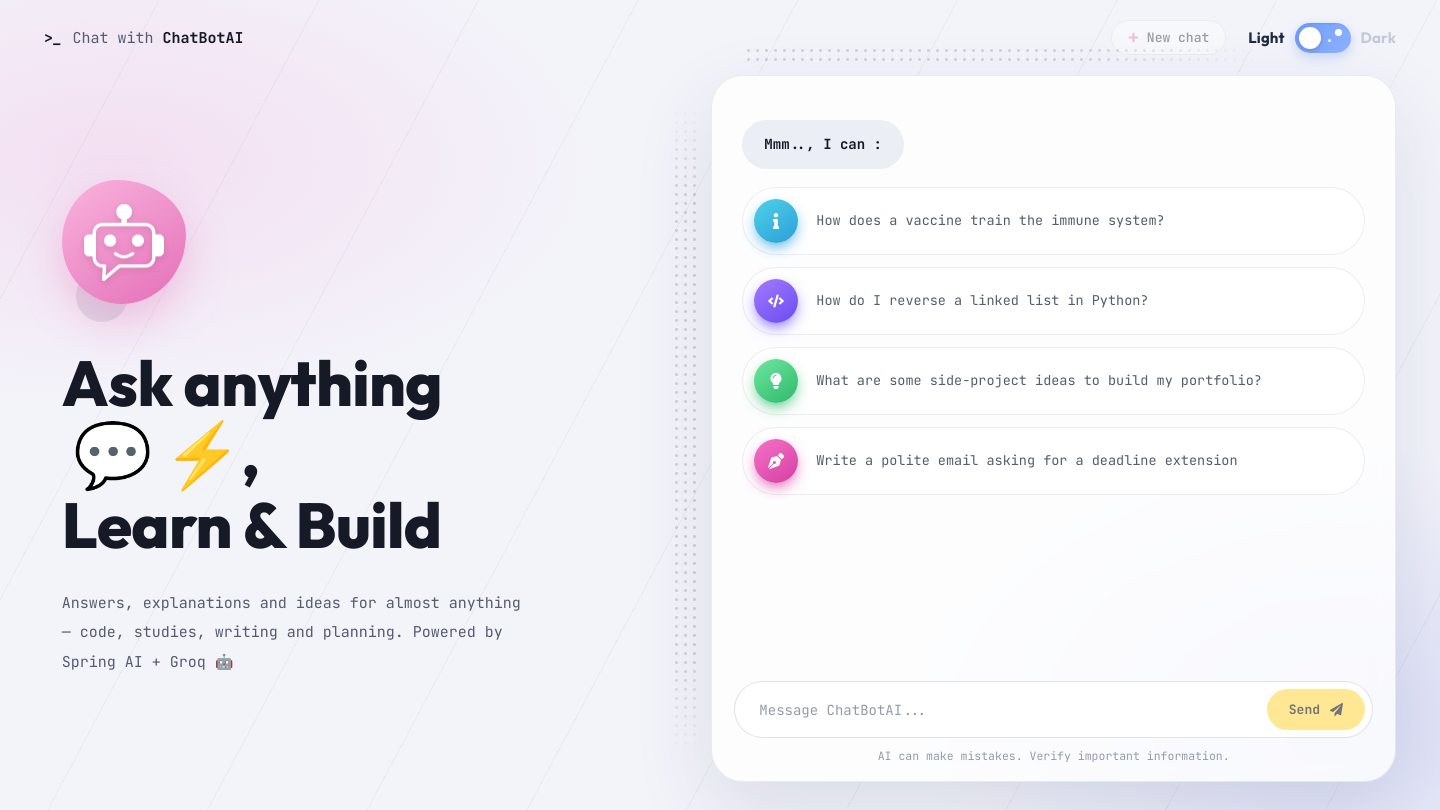
it: clicking a suggestion fills the message box
The width and height of the screenshot is (1440, 810).
Click the button "How does a vaccine train the immune system?" at (1054, 220), box [742,186,1365,254]
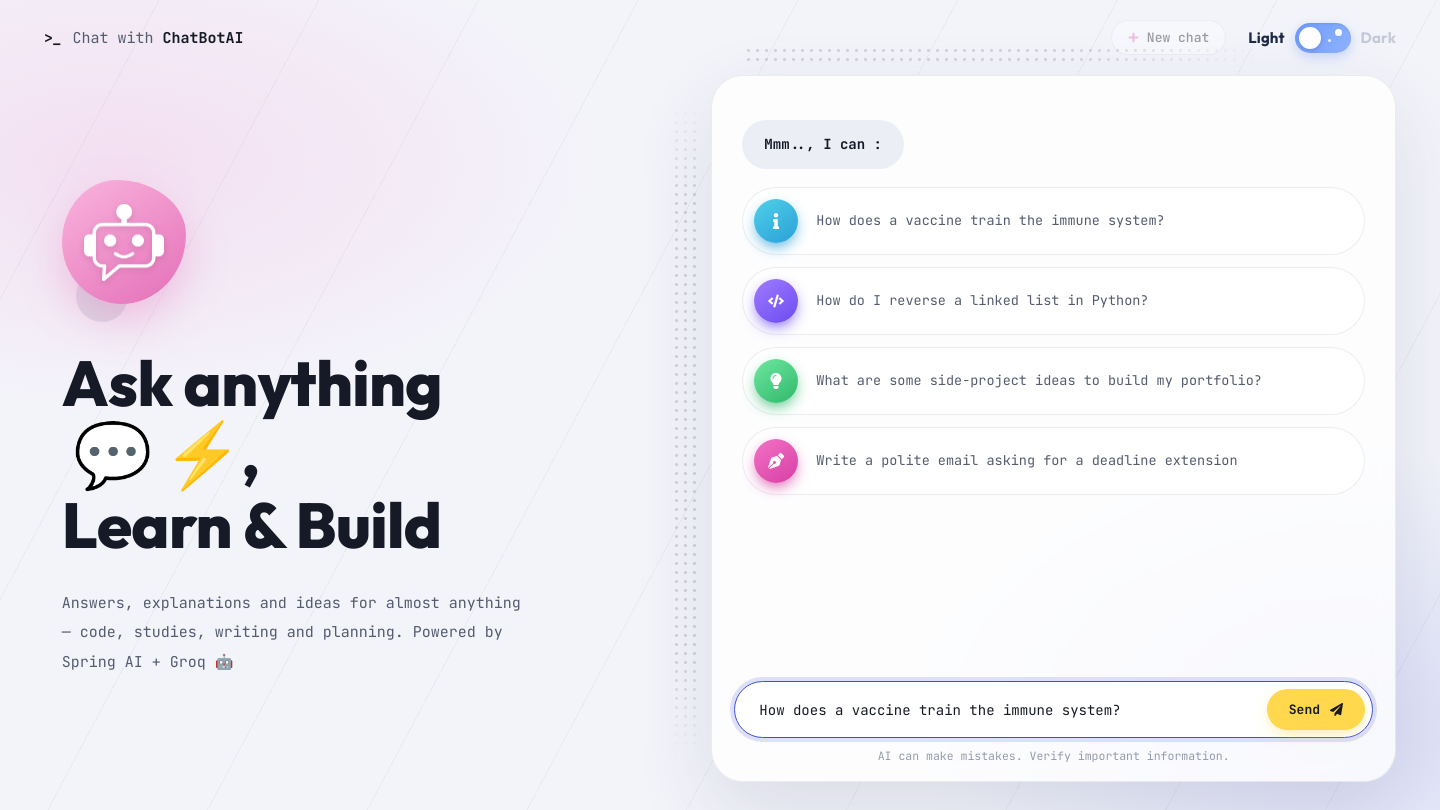
Expected: the field with placeholder "Message ChatBotAI..." holds "How does a vaccine train the immune system?", [759,692,1257,726]
Expected: the button with aria-label "send message" is enabled, [1267,689,1365,730]
